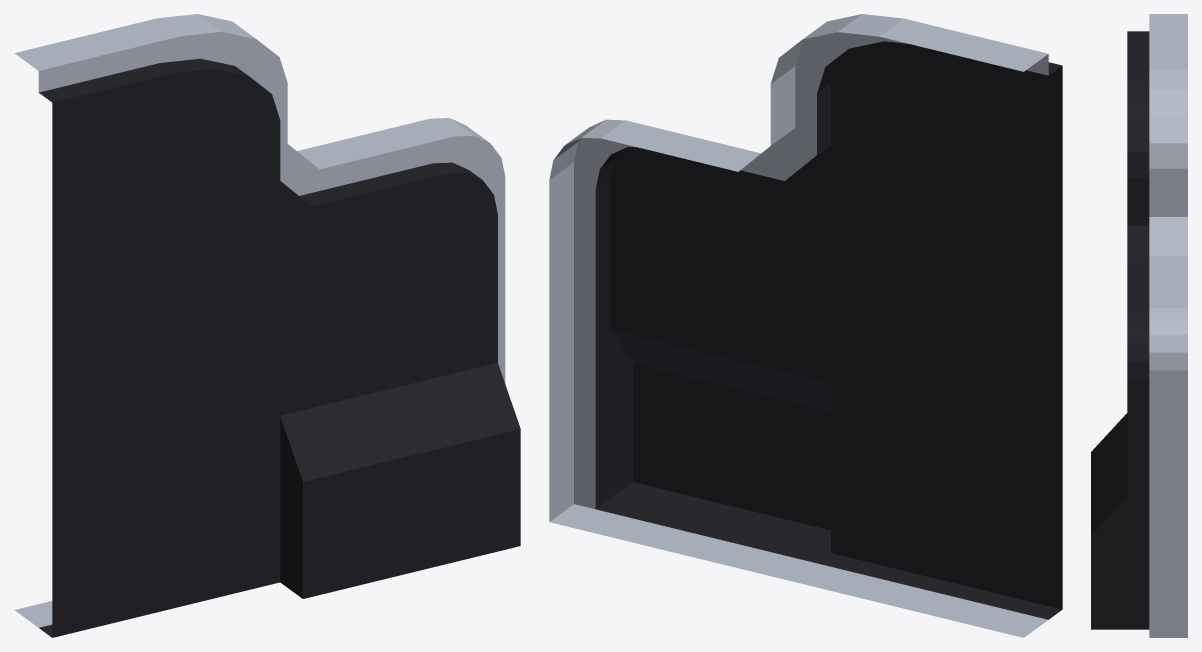
Rendered from gauge.gltf.
The picture shows the model from 3 angles, left to right: view 1: azimuth 30°, elevation 25°; view 2: azimuth 150°, elevation 25°; view 3: azimuth 270°, elevation 25°; orthographic projection. The views are drawn at different scales.
Parts seen in each view (by area): view 1: housing; view 2: housing; view 3: housing.
Part boxes in pixels (box(x1,y1,x2,y2)): housing: box(14, 14, 520, 637); housing: box(549, 14, 1062, 637); housing: box(1091, 14, 1187, 637).
Bounding box in the file's own units: 1.37 × 1.57 × 0.3108.
